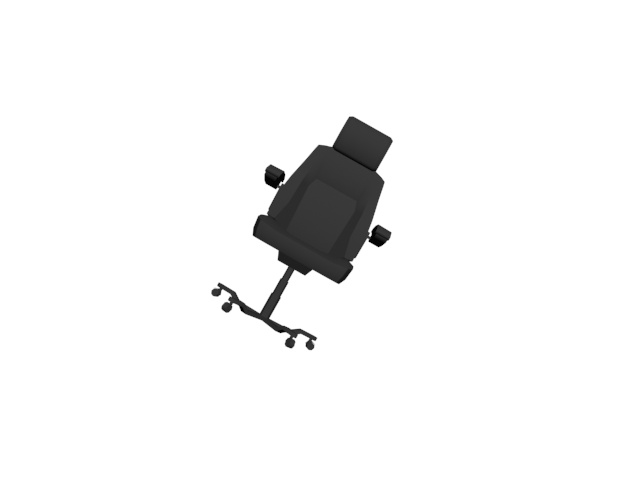desk_chair: (209, 113, 400, 352)
